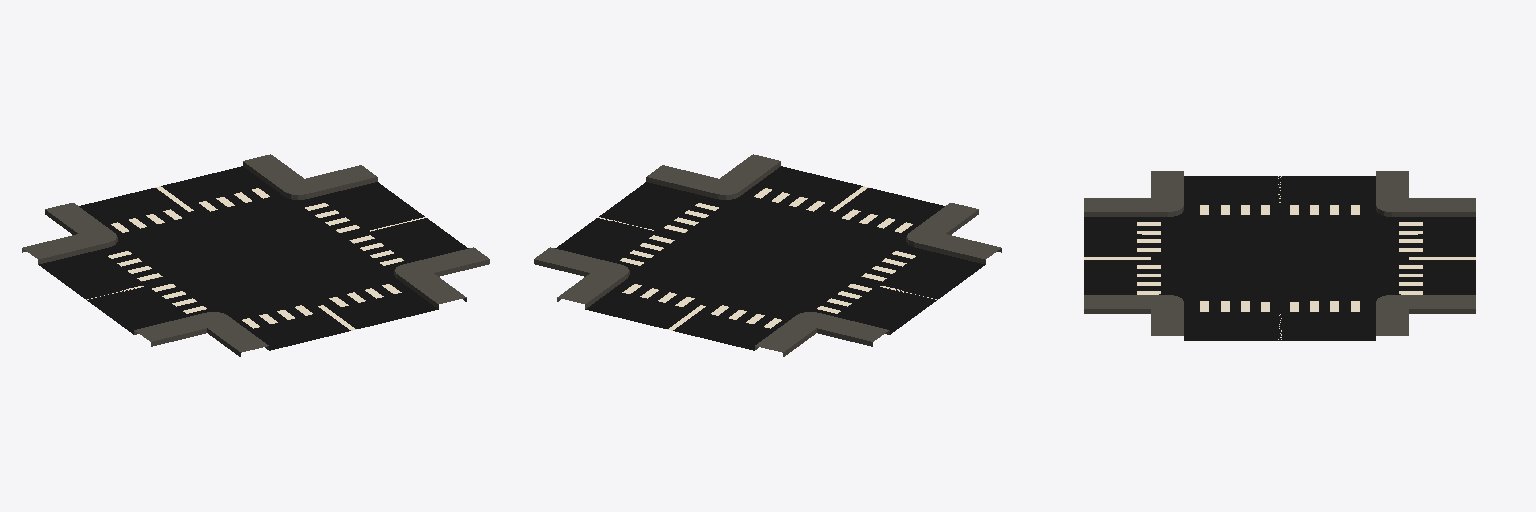
File: Road2.obj
3 renders of one model, left to right at view 1: azimuth 30°, elevation 25°; view 2: azimuth 150°, elevation 25°; view 3: azimuth 270°, elevation 25°, orthographic.
Visible parts, largest first — view 1: Plane; view 2: Plane; view 3: Plane.
Boxes of the visible parts, <box> form: Plane: <box>22,154,489,356</box>; Plane: <box>534,154,1001,356</box>; Plane: <box>1084,171,1475,340</box>.
Size of the model in its own units: 2 by 0.0285 by 2.